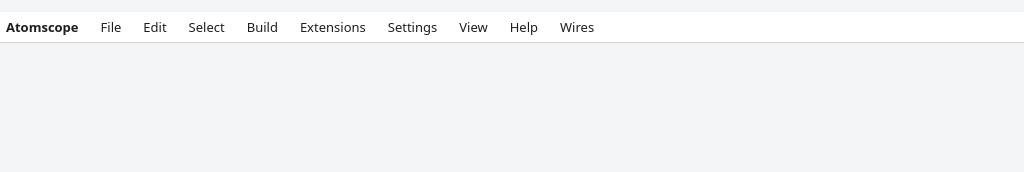
Test: a menu nothing built in provides is made for the item that asks for it
Click the button "Wires".
click(577, 27)  # box [550,12,604,42]
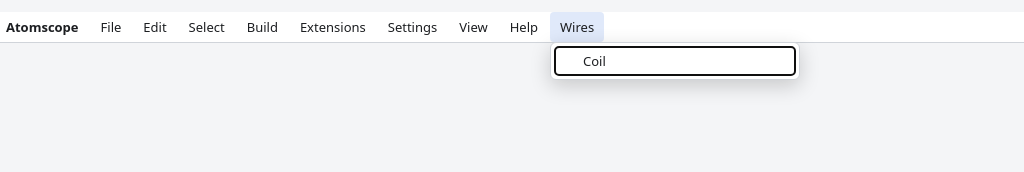
Expected: the menu item "Coil" is shown, [555,47,795,75]
